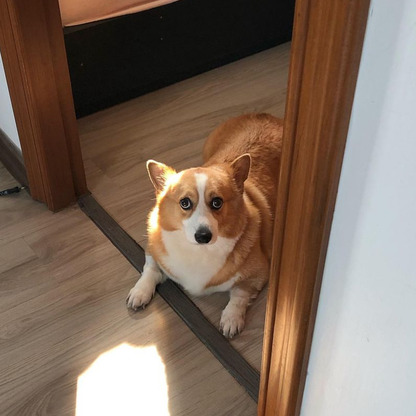Corgi: (116, 83, 301, 340)
